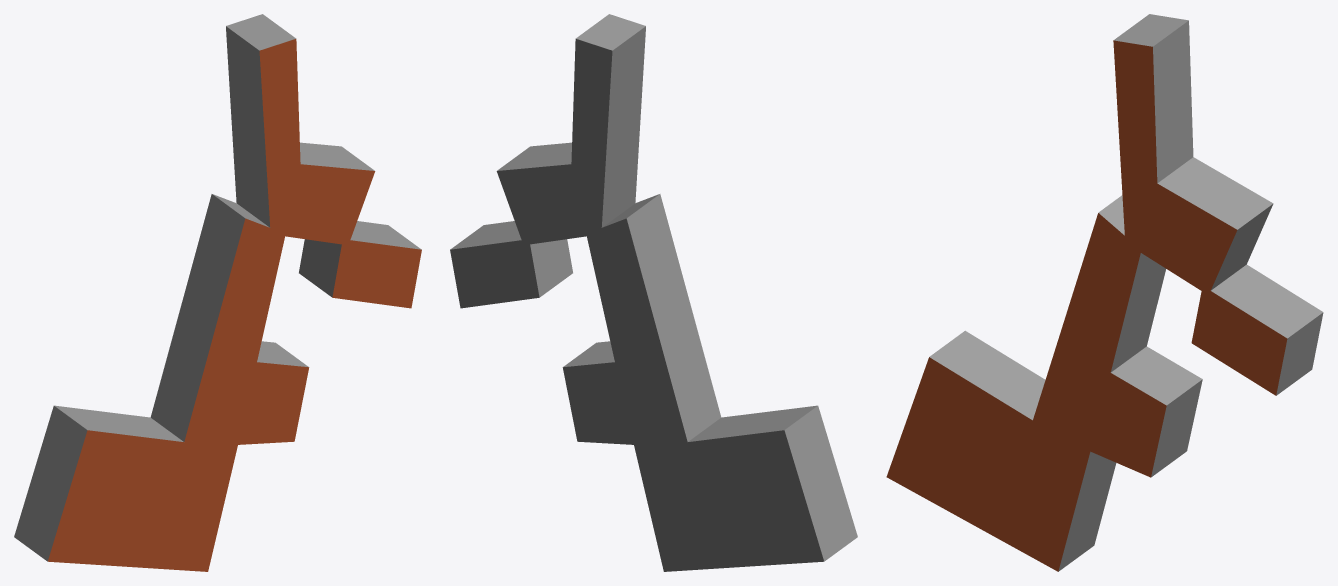
Rendered from construction_1631_assumed_A_Casa_h6m.obj.
The picture shows the model from 3 angles, left to right: view 1: azimuth 30°, elevation 25°; view 2: azimuth 150°, elevation 25°; view 3: azimuth 330°, elevation 25°; orthographic projection. The views are drawn at different scales.
Parts seen in each view (by area): view 1: construction_1631_assumed_A_Casa; view 2: construction_1631_assumed_A_Casa; view 3: construction_1631_assumed_A_Casa.
Boxes of the visible parts, <box> form: construction_1631_assumed_A_Casa: <box>14,14,421,571</box>; construction_1631_assumed_A_Casa: <box>450,14,857,571</box>; construction_1631_assumed_A_Casa: <box>886,14,1323,571</box>.
Bounding box in the file's own units: 38.49 × 50.29 × 6.
